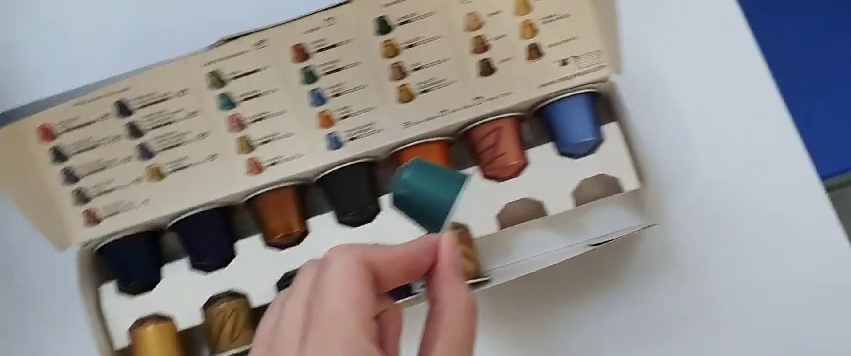capsule_13: (391, 156, 477, 235)
